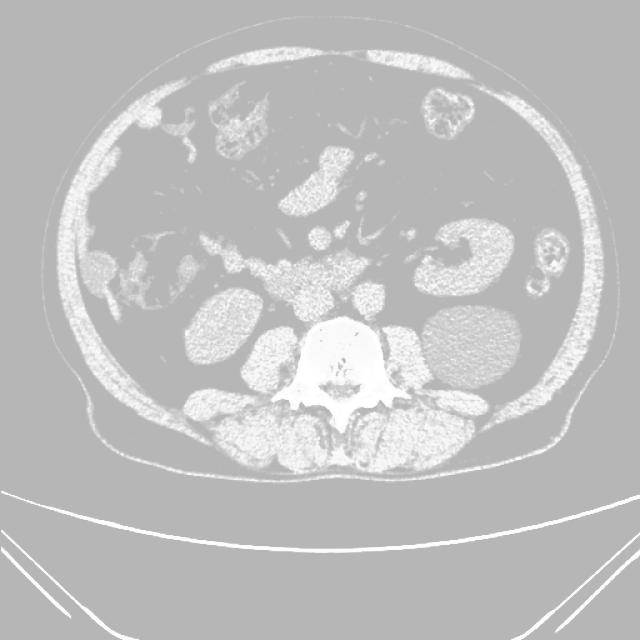cysts: (51, 38, 609, 482)
